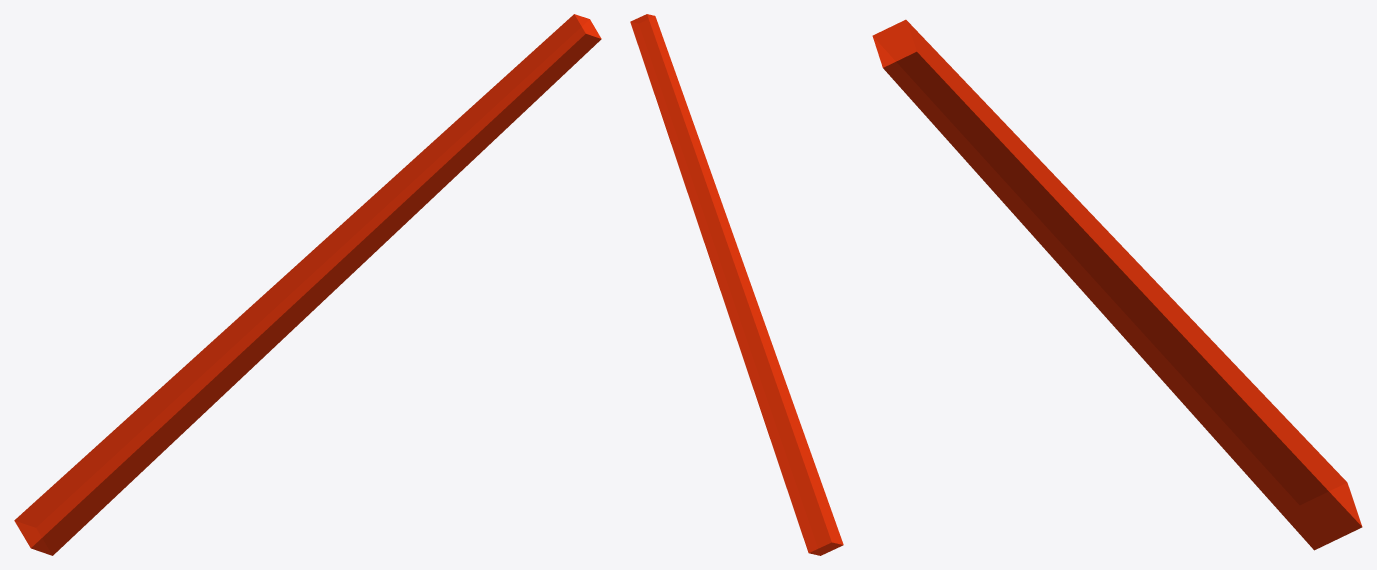
The model's file is Event_421127236_EBrechit_17.fbx.
3 views of the same model, side by side, from view 1: azimuth 30°, elevation 25°; view 2: azimuth 150°, elevation 25°; view 3: azimuth 270°, elevation 25° (orthographic). The views are drawn at different scales.
Visible parts, largest first — view 1: Model; view 2: Model; view 3: Model.
Boxes of the visible parts, x1,y1,x2,y2 form: Model: [14, 14, 601, 555]; Model: [630, 14, 843, 555]; Model: [872, 19, 1362, 550].
Bounding box in the file's own units: 1.04 × 1.28 × 0.7114.
